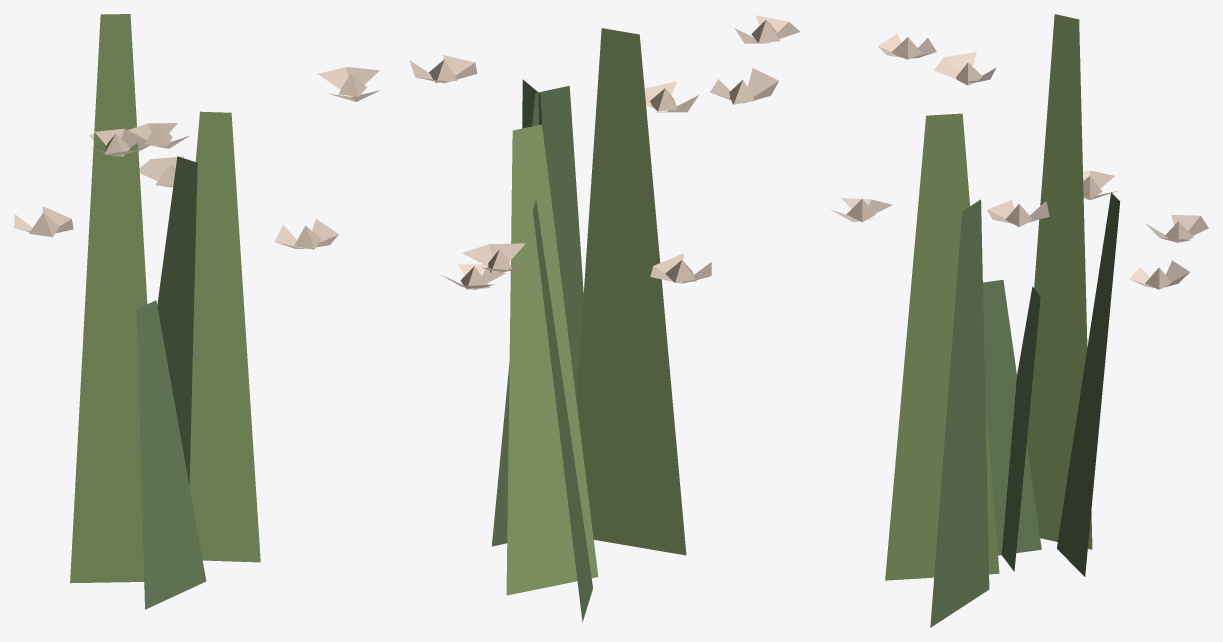
The model's file is nong.mai@flowering__summer.glb.
3 renders of one model, left to right at view 1: azimuth 30°, elevation 25°; view 2: azimuth 150°, elevation 25°; view 3: azimuth 270°, elevation 25°, orthographic. The views are drawn at different scales.
Parts seen in each view (by area): view 1: nong.mai@flowering__summer; view 2: nong.mai@flowering__summer; view 3: nong.mai@flowering__summer.
Boxes of the visible parts, left/top/right/bottom form: nong.mai@flowering__summer: left=14, top=14, right=379, bottom=609; nong.mai@flowering__summer: left=409, top=15, right=800, bottom=622; nong.mai@flowering__summer: left=830, top=14, right=1208, bottom=627.
Bounding box in the file's own units: 0.556 × 0.894 × 0.5986.
